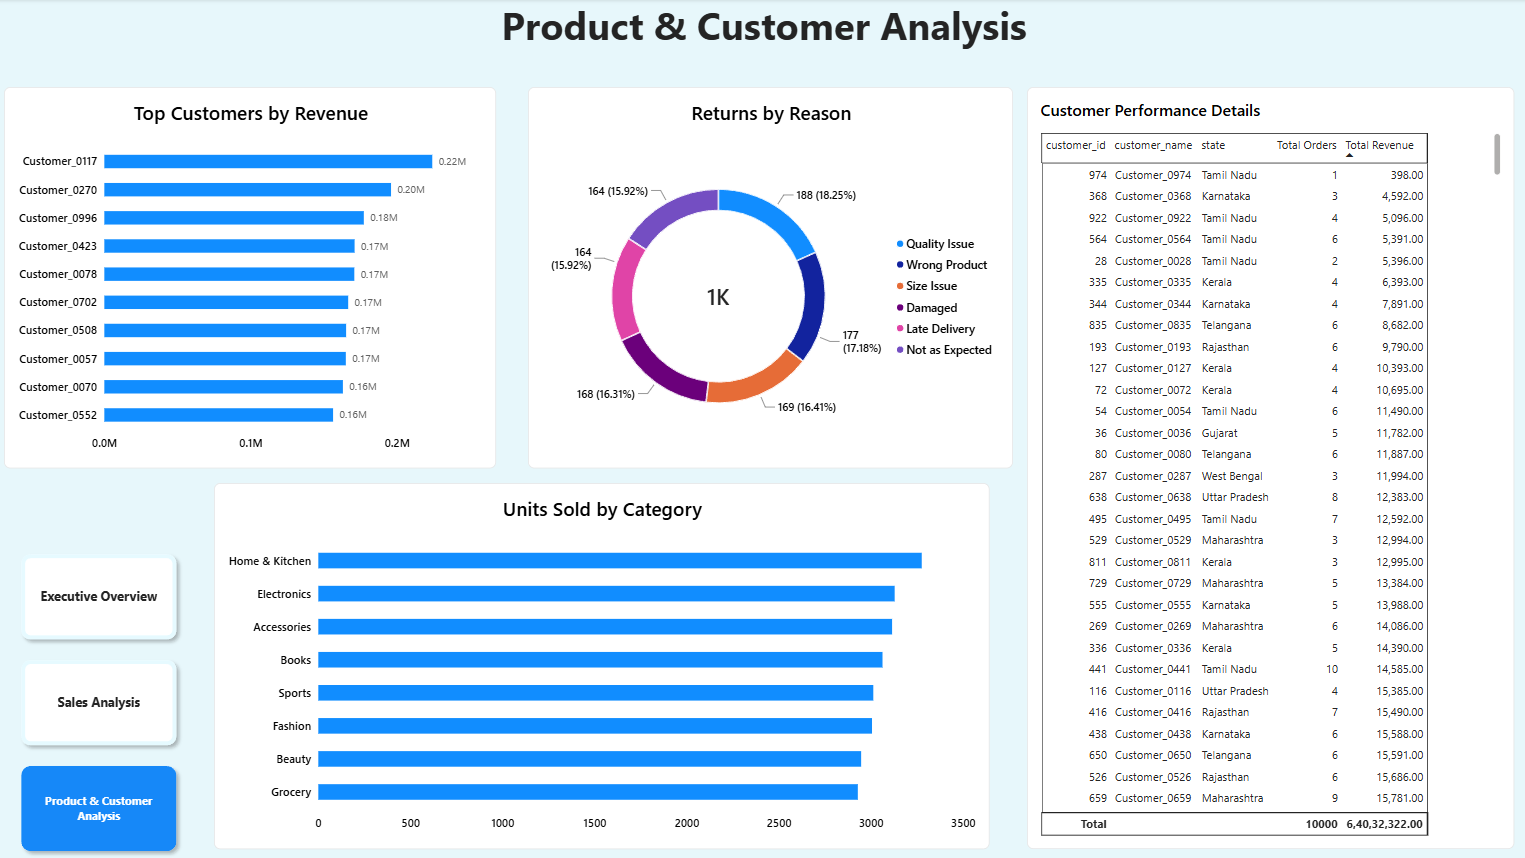

This screenshot's page, from the dashboard's own definition file:
{"tool":"powerbi","page":{"name":"Product & Customer Analysis","canvas":[1920,1080],"ordinal":2},"visuals":[{"type":"textbox","box":[10.5,0,1909.5,110.7],"z":0},{"type":"clusteredBarChart","title":"Units Sold by Category","fields":{"Category":["dim_products.category"],"Y":["Sum(fact_orders.quantity)"]},"box":[273.6,607.7,973.6,459.6],"z":1000},{"type":"clusteredBarChart","title":"Top Customers by Revenue","fields":{"Category":["dim_customers.customer_name"],"Y":["fact_orders.Revenue"]},"box":[10.6,110.4,618.3,479.2],"z":2000},{"type":"tableEx","title":"Customer Performance Details","fields":{"Values":["dim_customers.customer_id","dim_customers.customer_name","dim_customers.state","fact_orders.Total Orders","fact_orders.Revenue"]},"box":[1294.7,110.5,611.6,956.9],"z":3000},{"type":"donutChart","title":"Returns by Reason","fields":{"Y":["dim_returns.Returned Orders"],"Category":["dim_returns.return_reason"]},"box":[668.2,110.4,609.3,479.2],"z":4000},{"type":"pageNavigator","box":[22.7,687.9,213.5,391.8],"z":5000}]}

Visuals, with their boxes in screenshot pixels (x1, y1, x2, y2), scaled from the page's 1920x1080 canvas onto the 1525x858 screenshot:
textbox: {"x1": 8, "y1": 0, "x2": 1524, "y2": 88}
"Units Sold by Category" clusteredBarChart: {"x1": 217, "y1": 483, "x2": 991, "y2": 848}
"Top Customers by Revenue" clusteredBarChart: {"x1": 8, "y1": 88, "x2": 500, "y2": 468}
"Customer Performance Details" tableEx: {"x1": 1028, "y1": 88, "x2": 1514, "y2": 848}
"Returns by Reason" donutChart: {"x1": 531, "y1": 88, "x2": 1015, "y2": 468}
pageNavigator: {"x1": 18, "y1": 546, "x2": 188, "y2": 857}
